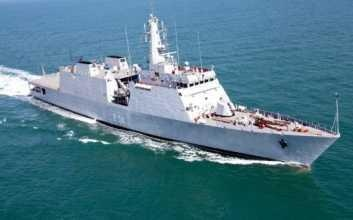warship: (14, 10, 343, 168)
